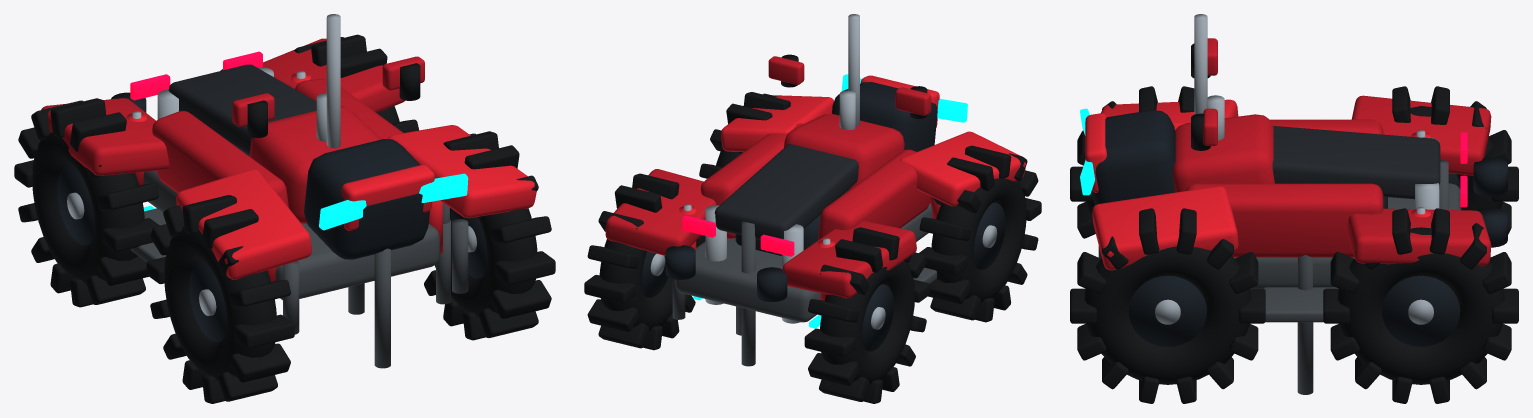
Rendered from street_quad.glb.
3 views of the same model, side by side, from view 1: azimuth 30°, elevation 25°; view 2: azimuth 150°, elevation 25°; view 3: azimuth 270°, elevation 25° (orthographic). The views are drawn at different scales.
Visible parts, largest first — view 1: FrontNose, WheelFrontLeftTire, FrontFender-1, WheelRearLeftTire, FrontFender1, Seat, SidePanel-1, Tank, Chassis, RearFender-1, WheelFrontRightTire, RearFender1 (+47 smaller); view 2: Seat, WheelFrontLeftTire, Chassis, WheelRearLeftTire, SidePanel-1, RearFender1, RearFender-1, Tank, FrontFender-1, FrontNose, FrontFender1, WheelRearRightTire (+41 smaller); view 3: WheelFrontRightTire, WheelRearRightTire, SidePanel1, Seat, FrontFender1, FrontNose, Tank, RearFender1, RearFender-1, WheelFrontRightRim, WheelRearRightRim, Chassis (+52 smaller).
Boxes of the visible parts, x1=… form: FrontNose: x1=304, y1=139, x2=429, y2=259; WheelFrontLeftTire: x1=164, y1=226, x2=276, y2=381; FrontFender-1: x1=176, y1=169, x2=311, y2=279; WheelRearLeftTire: x1=32, y1=120, x2=144, y2=284; FrontFender1: x1=388, y1=125, x2=536, y2=218; Seat: x1=168, y1=64, x2=316, y2=154; SidePanel-1: x1=152, y1=111, x2=288, y2=207; Tank: x1=249, y1=106, x2=380, y2=223; Chassis: x1=143, y1=170, x2=439, y2=300; RearFender-1: x1=41, y1=98, x2=169, y2=175; WheelFrontRightTire: x1=434, y1=208, x2=537, y2=317; RearFender1: x1=263, y1=38, x2=405, y2=112; Seat: x1=714, y1=144, x2=858, y2=239; WheelFrontLeftTire: x1=931, y1=178, x2=1026, y2=302; Chassis: x1=675, y1=203, x2=932, y2=322; WheelRearLeftTire: x1=820, y1=245, x2=914, y2=384; SidePanel-1: x1=818, y1=149, x2=930, y2=240; RearFender1: x1=605, y1=169, x2=716, y2=255; RearFender-1: x1=782, y1=221, x2=916, y2=298; Tank: x1=784, y1=114, x2=904, y2=188; FrontFender-1: x1=900, y1=131, x2=1026, y2=206; FrontNose: x1=832, y1=82, x2=937, y2=151; FrontFender1: x1=721, y1=95, x2=833, y2=152; WheelRearRightTire: x1=599, y1=192, x2=672, y2=330; WheelFrontRightTire: x1=1084, y1=246, x2=1251, y2=384; WheelRearRightTire: x1=1337, y1=227, x2=1504, y2=384; SidePanel1: x1=1186, y1=183, x2=1383, y2=257; Seat: x1=1272, y1=126, x2=1440, y2=199; FrontFender1: x1=1092, y1=186, x2=1238, y2=270; FrontNose: x1=1092, y1=110, x2=1175, y2=205; Tank: x1=1173, y1=114, x2=1274, y2=192; RearFender1: x1=1347, y1=208, x2=1491, y2=266; RearFender-1: x1=1351, y1=95, x2=1491, y2=175; WheelFrontRightRim: x1=1128, y1=276, x2=1206, y2=346; WheelRearRightRim: x1=1382, y1=276, x2=1460, y2=346; Chassis: x1=1234, y1=183, x2=1461, y2=288.
Bounding box in the file's own units: 2.84 × 3.06 × 3.67.
